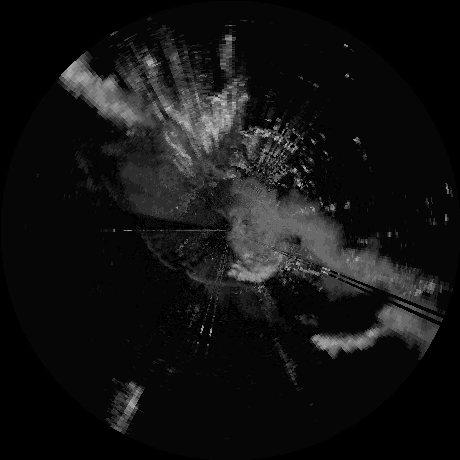frontgust: (185, 269, 268, 288), (144, 234, 172, 272)
